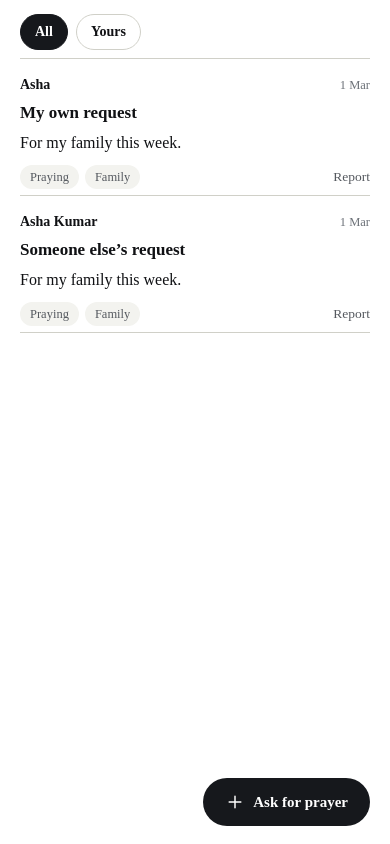
Scenario: All | Yours › says "You have not asked for prayer yet" under Yours when there are none, with its own button
This screenshot has width=390, height=844.
expect the text "Someone else’s request" is shown: met, box [20,240,185,259]
Click the button with test id "prayer-wall-filter-yours" at (108, 32), box [76,14,141,50]
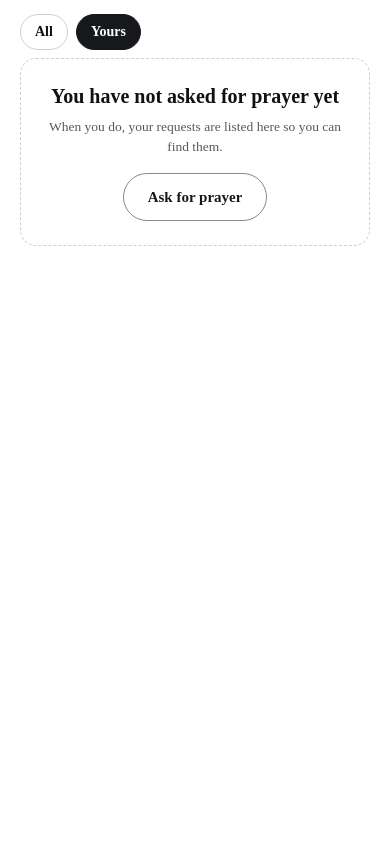
expect the number of buttons with test id "prayer-wall-compose" is 1: met, box [123,173,267,221]
expect the element with test id "prayer-wall-no-own" is shown: met, box [20,58,370,246]
expect the text "You have not asked for prayer yet" is shown: met, box [51,83,339,109]
